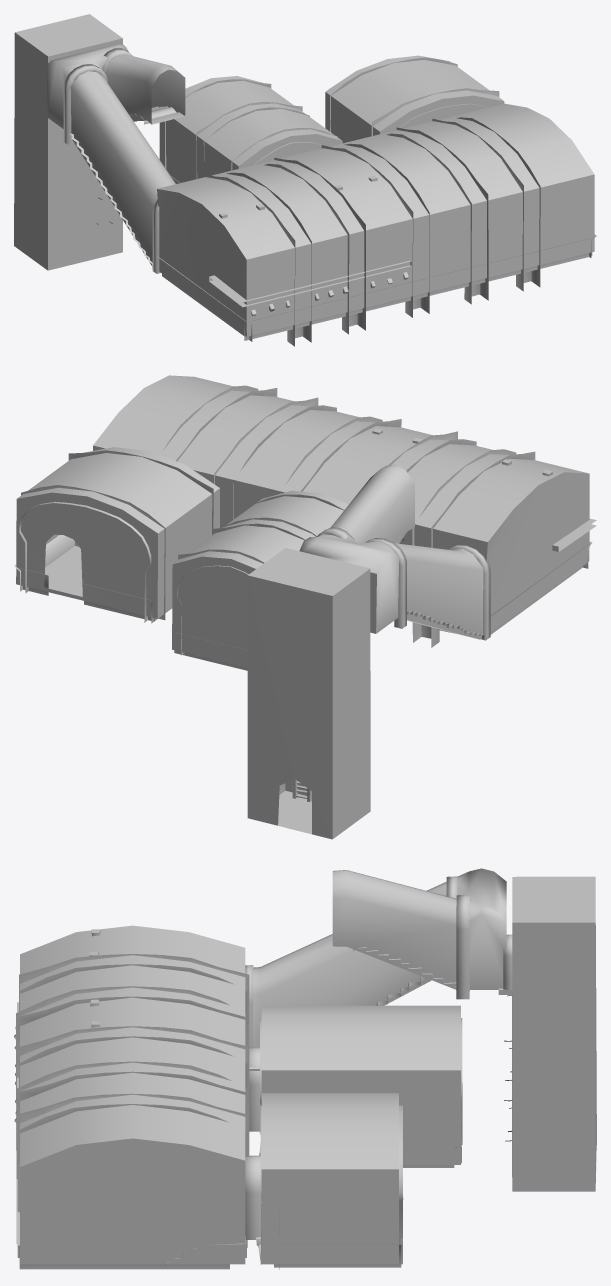
Rendered from BASEMENT_BASE.FBX.
3 renders of one model, top to bottom at view 1: azimuth 30°, elevation 25°; view 2: azimuth 150°, elevation 25°; view 3: azimuth 270°, elevation 25°, orthographic. The views are drawn at different scales.
Parts seen in each view (by area): view 1: Basment_Main_Part, Krypt_Pass, Basment_Pass, Basment_1Room, Basment_2Room, Arc_BB_04, Arc_BB_02, Arc_BB_05, Arc_BB_001, Arc_BB_03, basement_woden_platform, Door_Ark_Long_16 (+3 smaller); view 2: Basment_Main_Part, Krypt_Pass, Basment_2Room, Basment_Pass, Basment_1Room, Arc_BB_10, Arc_BB_001, Door_Ark_Long_16, Arc_BB_02, Door_Ark_Long_17, Arc_BB_03, Arc_BB_05 (+1 smaller); view 3: Basment_Main_Part, Krypt_Pass, Basment_2Room, Basment_Pass, Basment_1Room, Arc_BB_03, Arc_BB_05, Arc_BB_001, Arc_BB_04, Arc_BB_02, Door_Ark_Long_15, Inner_Door_Base_A24 (+3 smaller).
Boxes of the visible parts, x1=… form: Basment_Main_Part: x1=157, y1=103, x2=596, y2=341; Krypt_Pass: x1=14, y1=14, x2=122, y2=270; Basment_Pass: x1=46, y1=43, x2=185, y2=265; Basment_1Room: x1=159, y1=76, x2=342, y2=183; Basment_2Room: x1=325, y1=55, x2=504, y2=143; Arc_BB_04: x1=264, y1=157, x2=365, y2=334; Arc_BB_02: x1=386, y1=127, x2=488, y2=304; Arc_BB_05: x1=432, y1=117, x2=540, y2=291; Arc_BB_001: x1=203, y1=172, x2=311, y2=346; Arc_BB_03: x1=321, y1=143, x2=429, y2=317; basement_woden_platform: x1=209, y1=260, x2=411, y2=307; Door_Ark_Long_16: x1=63, y1=64, x2=107, y2=144; Basment_Main_Part: x1=93, y1=375, x2=592, y2=634; Krypt_Pass: x1=247, y1=548, x2=370, y2=839; Basment_2Room: x1=14, y1=447, x2=219, y2=623; Basment_Pass: x1=299, y1=464, x2=483, y2=639; Basment_1Room: x1=172, y1=490, x2=348, y2=670; Arc_BB_10: x1=19, y1=485, x2=165, y2=622; Arc_BB_001: x1=412, y1=449, x2=535, y2=647; Door_Ark_Long_16: x1=365, y1=538, x2=406, y2=628; Arc_BB_02: x1=214, y1=397, x2=336, y2=519; Door_Ark_Long_17: x1=448, y1=545, x2=490, y2=640; Arc_BB_03: x1=286, y1=416, x2=401, y2=491; Arc_BB_05: x1=163, y1=385, x2=277, y2=461; Basment_Main_Part: x1=16, y1=925, x2=245, y2=1269; Krypt_Pass: x1=512, y1=876, x2=596, y2=1191; Basment_2Room: x1=261, y1=1093, x2=402, y2=1267; Basment_Pass: x1=253, y1=868, x2=506, y2=1047; Basment_1Room: x1=249, y1=1005, x2=462, y2=1167; Arc_BB_03: x1=19, y1=1026, x2=249, y2=1155; Arc_BB_05: x1=17, y1=1093, x2=247, y2=1257; Arc_BB_001: x1=19, y1=954, x2=249, y2=1046; Arc_BB_04: x1=16, y1=986, x2=246, y2=1150; Arc_BB_02: x1=16, y1=1061, x2=247, y2=1179; Door_Ark_Long_15: x1=456, y1=894, x2=470, y2=999; Inner_Door_Base_A24: x1=245, y1=1155, x2=261, y2=1239.
Bounding box in the file's own units: 2831 × 1798 × 3116.
